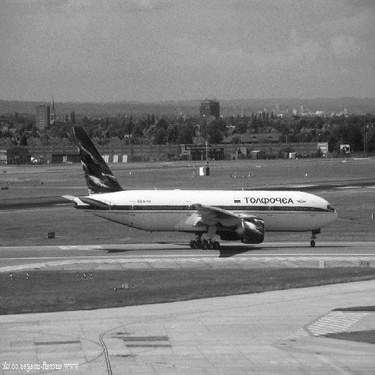airplane: (49, 113, 342, 264)
